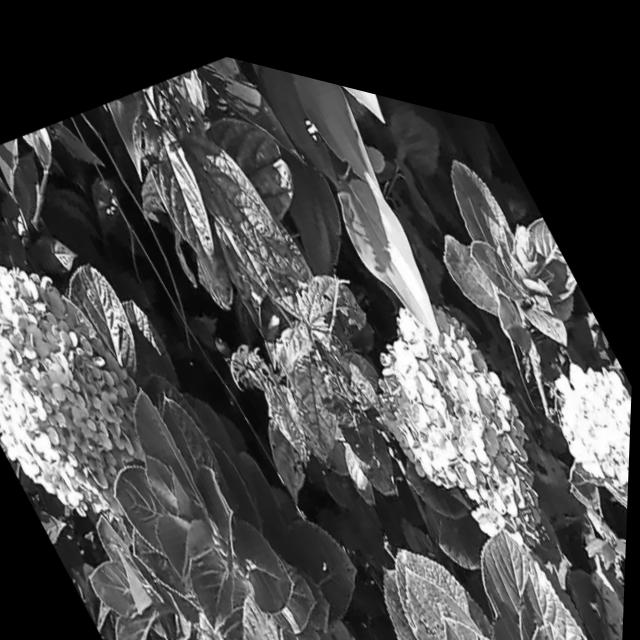Flower: (333, 235, 586, 569), (0, 215, 199, 561), (529, 297, 635, 470)
